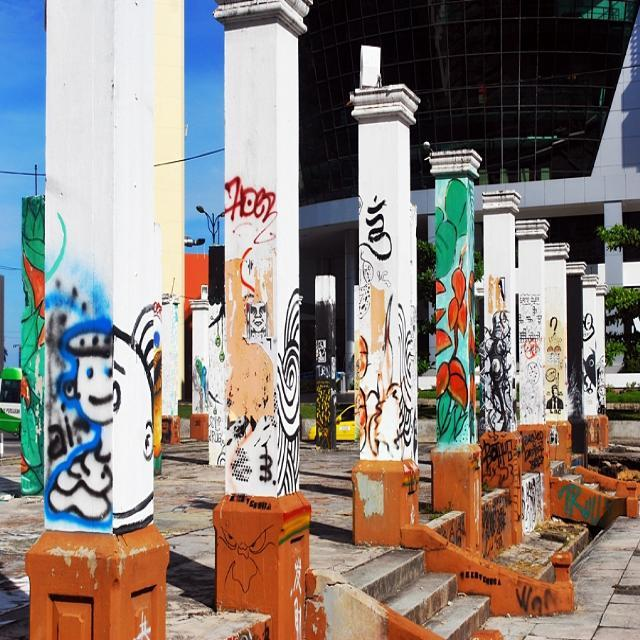-: (42, 213, 110, 531), (230, 242, 300, 486), (359, 193, 414, 454), (107, 304, 155, 540), (434, 180, 474, 444), (22, 203, 46, 490), (484, 270, 512, 428), (217, 526, 273, 598), (192, 356, 222, 468), (224, 172, 275, 232), (554, 478, 598, 531), (520, 298, 537, 404), (484, 436, 512, 498), (544, 317, 560, 413), (582, 310, 597, 392), (512, 583, 552, 612), (438, 514, 467, 550), (526, 429, 543, 478), (482, 504, 500, 548), (458, 568, 493, 590), (524, 432, 539, 464)
